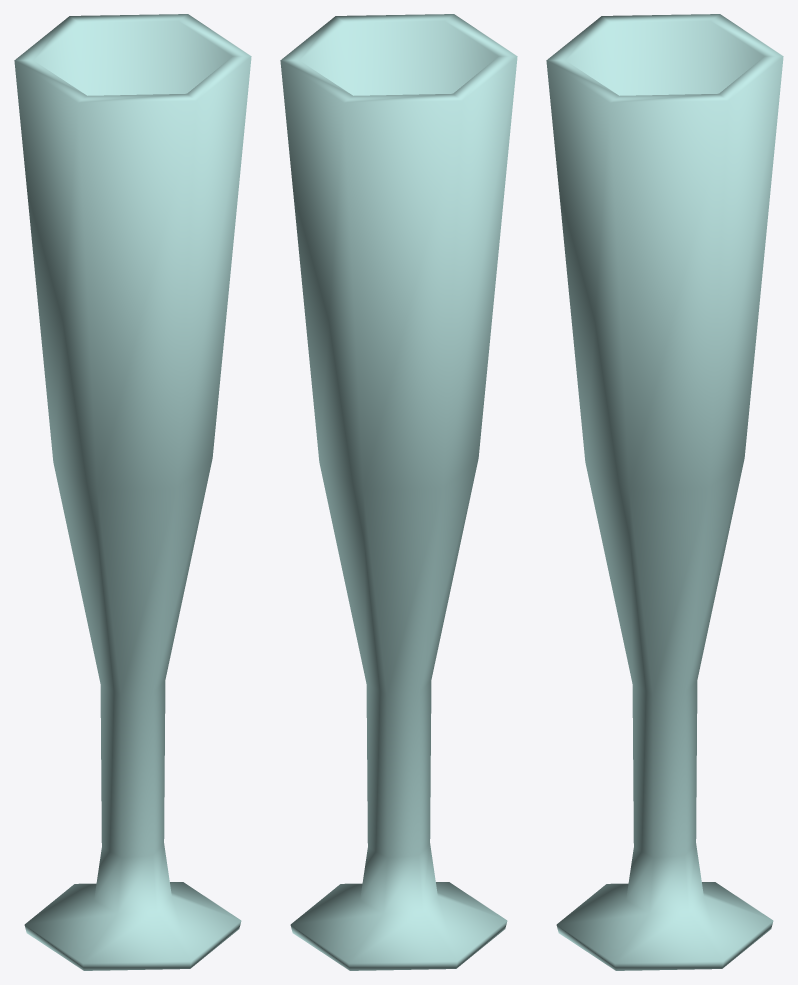
Rendered from champagne1.fbx.
3 views of the same model, side by side, from view 1: azimuth 30°, elevation 25°; view 2: azimuth 150°, elevation 25°; view 3: azimuth 270°, elevation 25° (orthographic).
Parts seen in each view (by area): view 1: champagne1; view 2: champagne1; view 3: champagne1.
Boxes of the visible parts, x1,y1,x2,y2 form: champagne1: (14,14,251,970); champagne1: (280,14,517,970); champagne1: (546,14,783,970).
Bounding box in the file's own units: 6.55 × 30 × 7.39.
